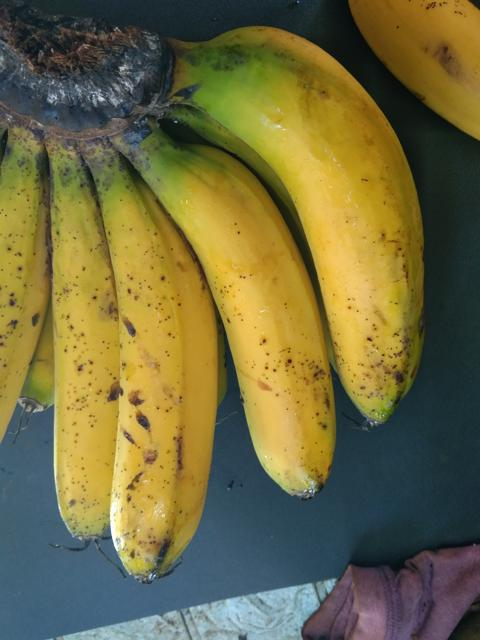ripe: (158, 20, 443, 447), (121, 136, 344, 520), (77, 152, 236, 622), (15, 136, 135, 558)
